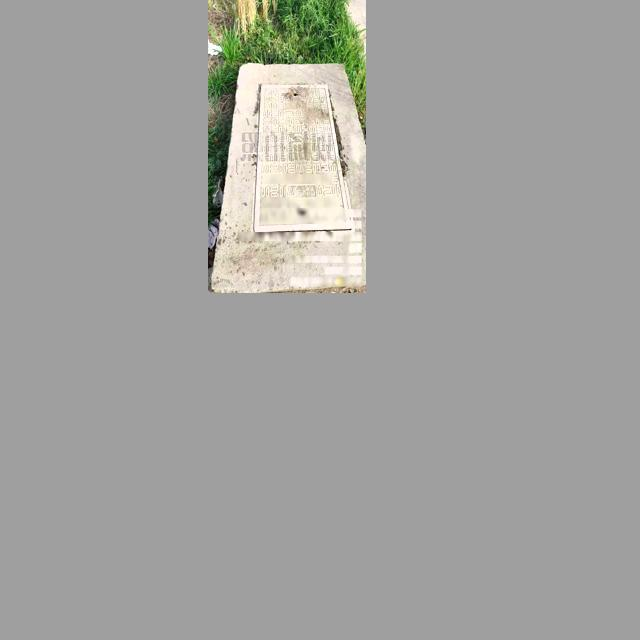good: (250, 63, 345, 237)
